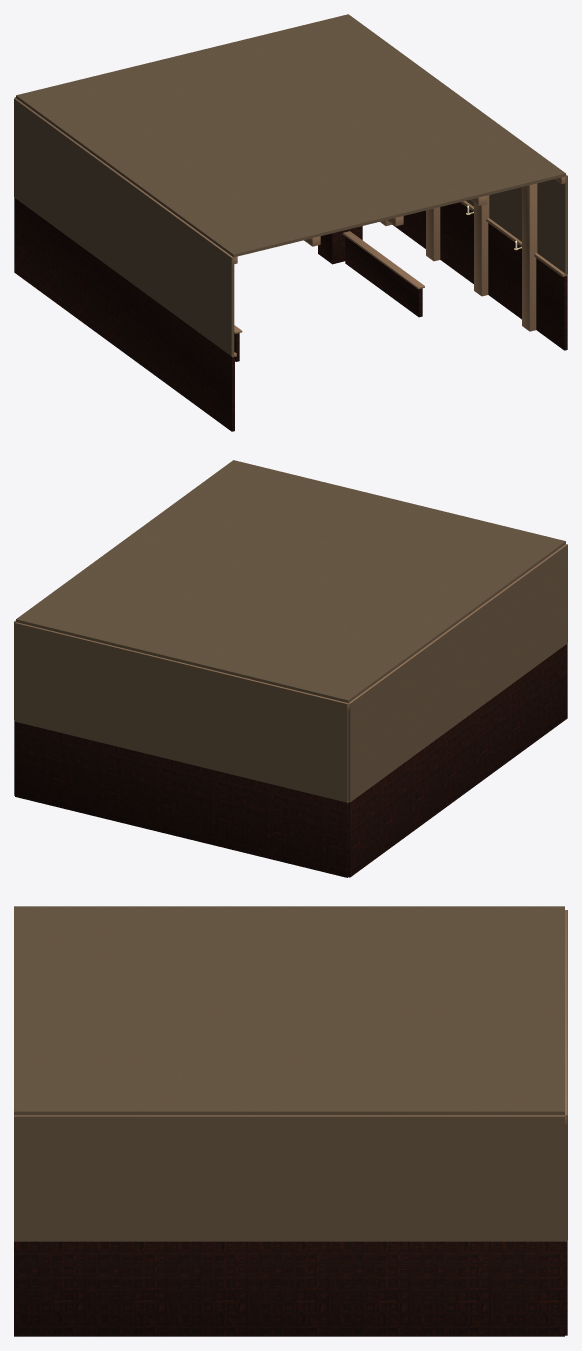
File: courtroom.glb
3 views of the same model, one above another, from view 1: azimuth 30°, elevation 25°; view 2: azimuth 150°, elevation 25°; view 3: azimuth 270°, elevation 25° (orthographic). The views are drawn at different scales.
Parts seen in each view (by area): view 1: CR_Ceiling, CR_SidePlaster, CR_SideWainscot, CR_SideWainscot.001, CR_SidePlaster.001, CR_Pilaster.004, CR_JuryWall.001, CR_Pilaster.005, CR_Witness, CR_Pilaster.006, CR_JuryCap.001, CR_SideCornice; view 2: CR_Ceiling, CR_BackPlaster, CR_BackWainscot, CR_SidePlaster, CR_SideWainscot, CR_BackCornice, CR_SideCornice; view 3: CR_Ceiling, CR_SidePlaster.001, CR_SideWainscot.001, CR_SideCornice.001, CR_BackCornice, CR_BackPlaster.
Part boxes in pixels (x1,y1,x2,y2): CR_Ceiling: [16, 14, 565, 257]; CR_SidePlaster: [14, 98, 234, 356]; CR_SideWainscot: [14, 198, 234, 431]; CR_SideWainscot.001: [392, 202, 567, 350]; CR_SidePlaster.001: [466, 175, 567, 274]; CR_Pilaster.004: [522, 183, 537, 331]; CR_JuryWall.001: [345, 236, 422, 317]; CR_Pilaster.005: [474, 195, 489, 296]; CR_Witness: [318, 226, 362, 264]; CR_Pilaster.006: [426, 207, 440, 261]; CR_JuryCap.001: [343, 231, 424, 289]; CR_SideCornice: [14, 98, 237, 264]; CR_Ceiling: [16, 460, 565, 702]; CR_BackPlaster: [14, 623, 348, 802]; CR_BackWainscot: [15, 721, 348, 877]; CR_SidePlaster: [348, 544, 567, 802]; CR_SideWainscot: [348, 643, 567, 877]; CR_BackCornice: [15, 622, 348, 710]; CR_SideCornice: [348, 544, 567, 710]; CR_Ceiling: [14, 906, 564, 1115]; CR_SidePlaster.001: [14, 1116, 564, 1241]; CR_SideWainscot.001: [14, 1241, 564, 1336]; CR_SideCornice.001: [14, 1115, 564, 1116]; CR_BackCornice: [565, 910, 567, 1123]; CR_BackPlaster: [565, 910, 567, 1240].
Size of the model in its own units: 12.14 by 6.1 by 13.67.
Materials: 8 (4 with a texture image).
